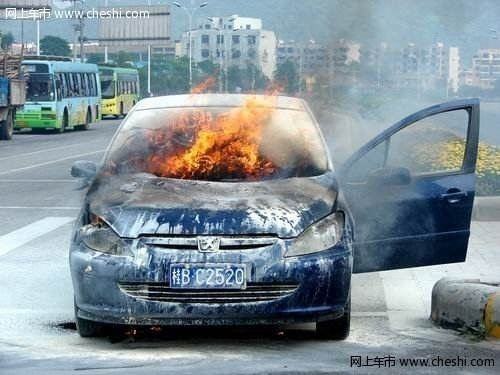fire: (141, 88, 288, 178)
